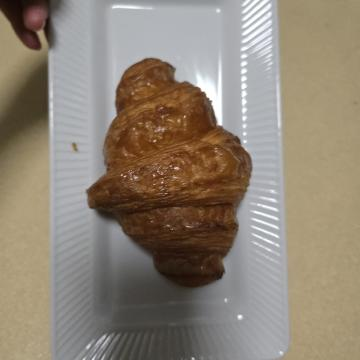croissant: (48, 99, 302, 285)
